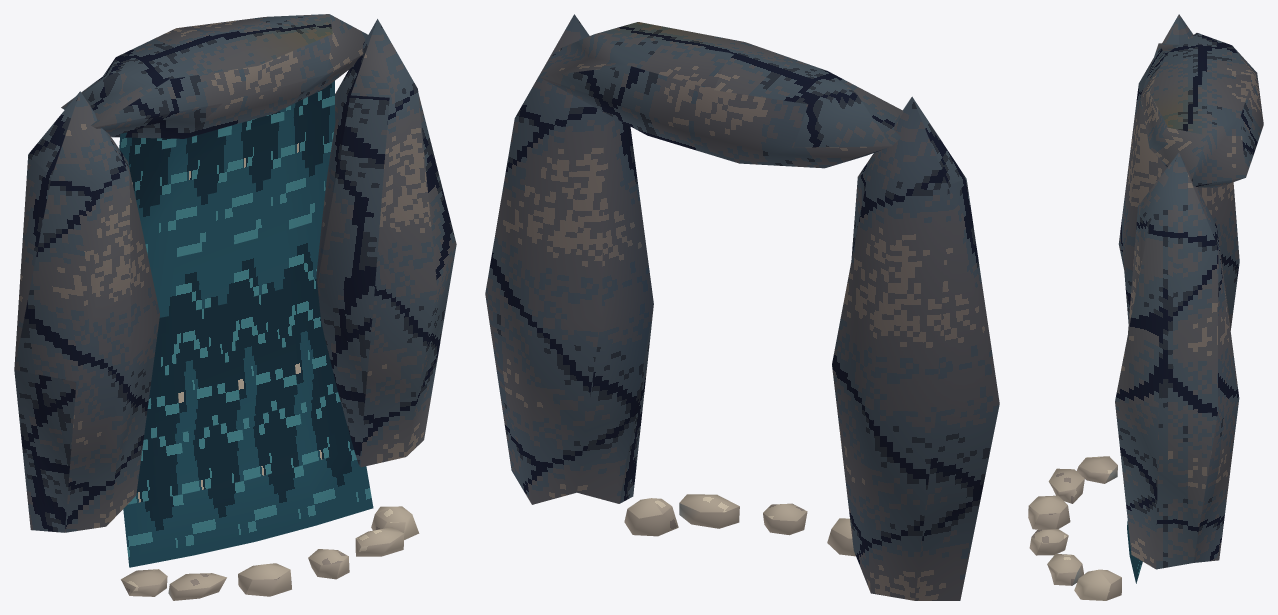
Rendered from lake.waterfall.glb.
3 views of the same model, side by side, from view 1: azimuth 30°, elevation 25°; view 2: azimuth 150°, elevation 25°; view 3: azimuth 270°, elevation 25° (orthographic). The views are drawn at different scales.
Parts seen in each view (by area): view 1: kit_lip, kit_shell_falls, kit_foam; view 2: kit_lip, kit_foam; view 3: kit_lip, kit_foam.
Part boxes in pixels (x1,y1,x2,y2): kit_lip: (14,14,456,532); kit_shell_falls: (119,81,373,567); kit_foam: (121,506,419,600); kit_lip: (485,14,999,600); kit_foam: (624,494,855,556); kit_lip: (1115,14,1263,569); kit_foam: (1028,456,1121,600).
Bounding box in the file's own units: 6.18 × 6.57 × 3.03.
Materials: 3 (3 with a texture image).
